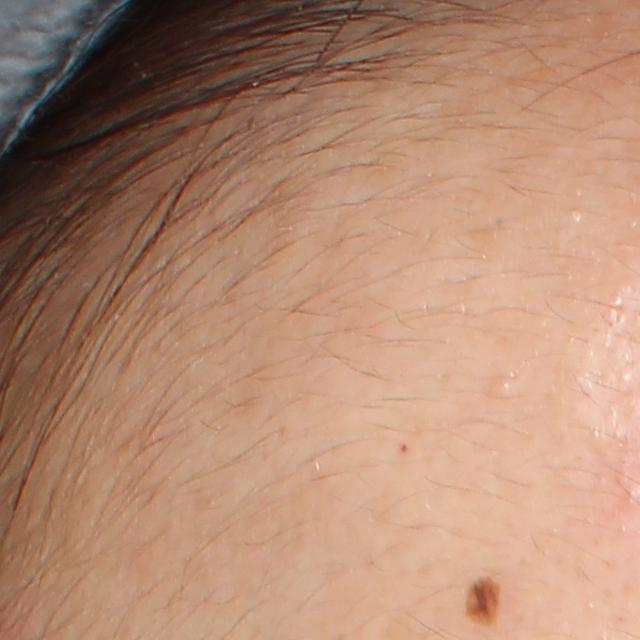comedo: (487, 371, 521, 398)
nevus: (461, 574, 504, 629)
